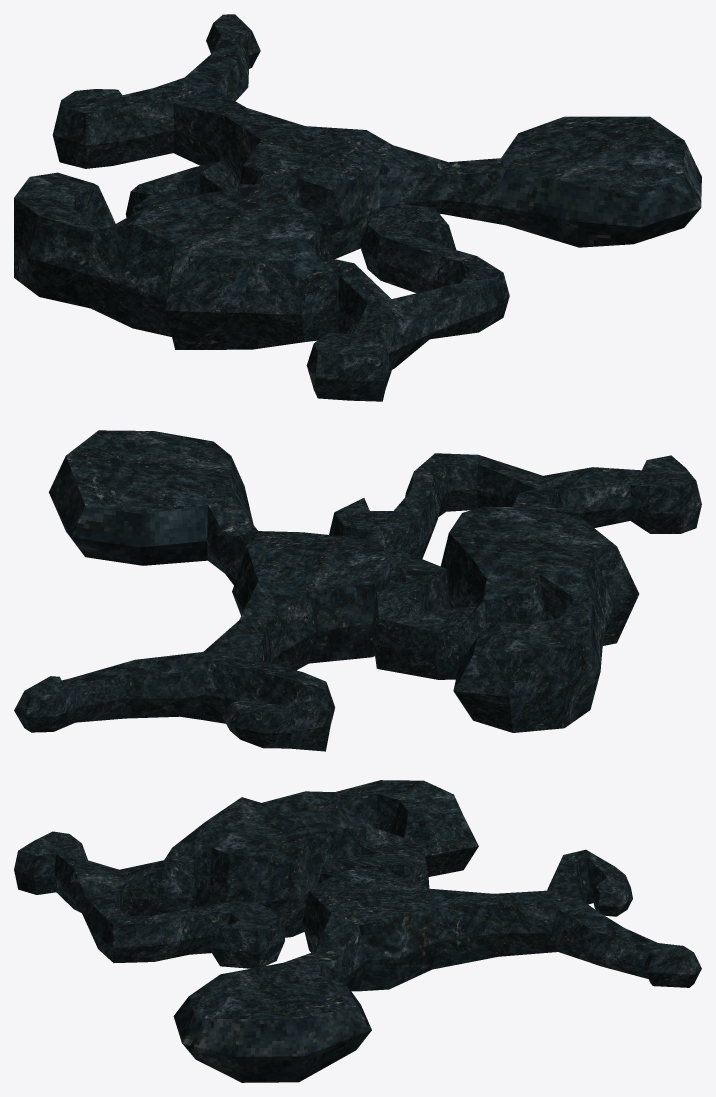
Rendered from lvl2.fbx.
3 views of the same model, one above another, from view 1: azimuth 30°, elevation 25°; view 2: azimuth 150°, elevation 25°; view 3: azimuth 270°, elevation 25° (orthographic). The views are drawn at different scales.
Visible parts, largest first — view 1: Cube; view 2: Cube; view 3: Cube.
Boxes of the visible parts, x1=… form: Cube: x1=14, y1=14, x2=701, y2=401; Cube: x1=14, y1=430, x2=701, y2=751; Cube: x1=14, y1=780, x2=701, y2=1082.
Size of the model in its own units: 7888 by 1337 by 9309.
